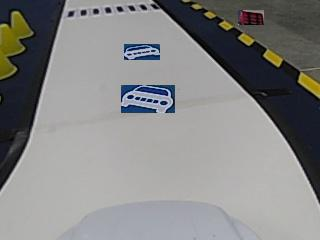crosswalk: (66, 3, 161, 17)
